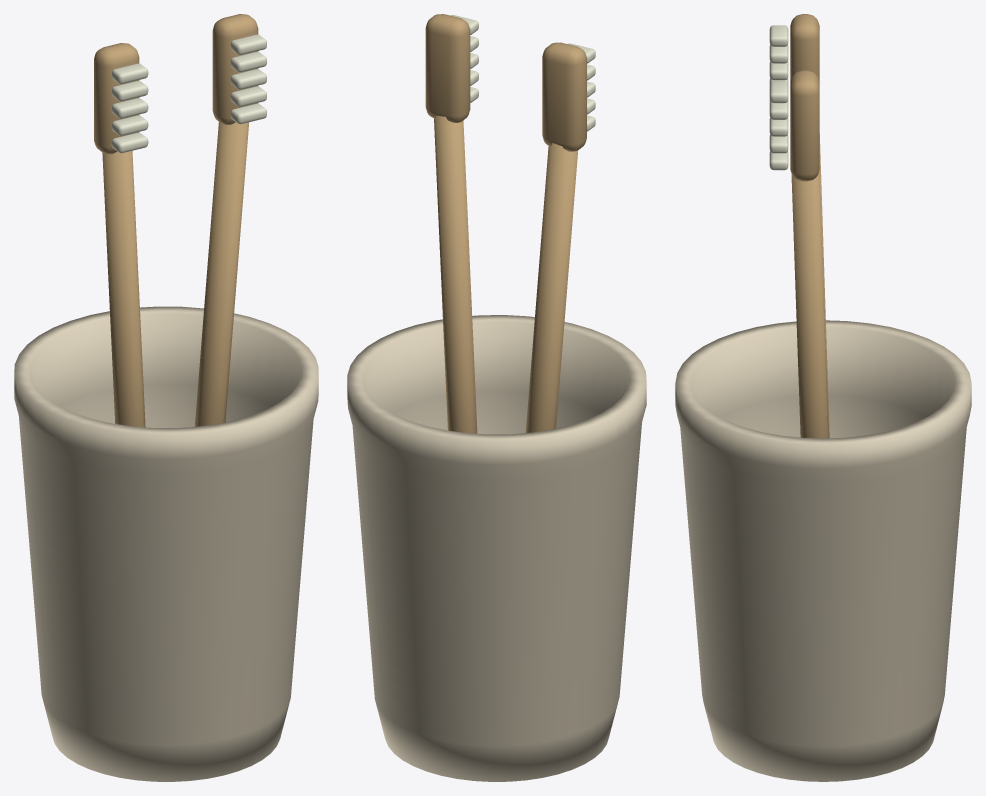
The model's file is toothbrush_holder.glb.
The picture shows the model from 3 angles, left to right: view 1: azimuth 30°, elevation 25°; view 2: azimuth 150°, elevation 25°; view 3: azimuth 270°, elevation 25°; orthographic projection. The views are drawn at different scales.
Parts seen in each view (by area): view 1: toothbrush_holder__body, toothbrush_holder__accent, toothbrush_holder__bristles; view 2: toothbrush_holder__body, toothbrush_holder__accent, toothbrush_holder__bristles; view 3: toothbrush_holder__body, toothbrush_holder__accent, toothbrush_holder__bristles.
Part boxes in pixels (left/top/right/bottom): toothbrush_holder__body: left=14, top=306, right=318, bottom=781; toothbrush_holder__accent: left=94, top=14, right=258, bottom=427; toothbrush_holder__bristles: left=111, top=34, right=266, bottom=153; toothbrush_holder__body: left=347, top=315, right=646, bottom=781; toothbrush_holder__accent: left=425, top=14, right=586, bottom=433; toothbrush_holder__bristles: left=451, top=15, right=595, bottom=131; toothbrush_holder__body: left=675, top=320, right=971, bottom=781; toothbrush_holder__accent: left=790, top=14, right=829, bottom=438; toothbrush_holder__bristles: left=769, top=25, right=788, bottom=170.
Bounding box in the file's own units: 0.08 × 0.205 × 0.08.
